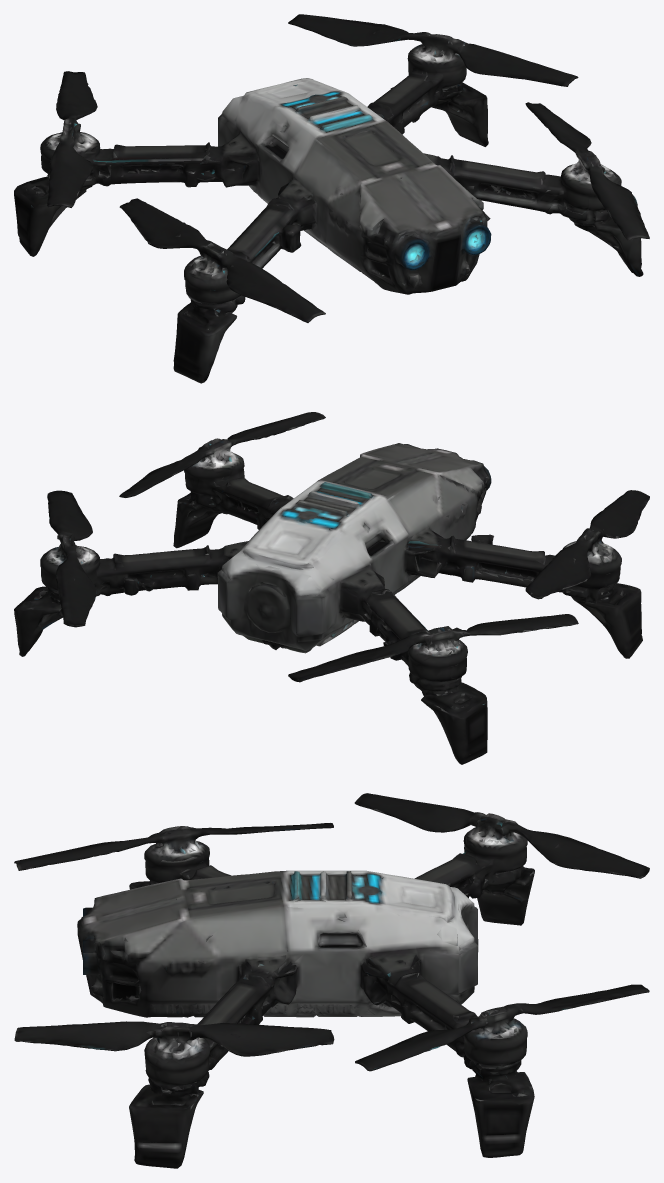
File: human_drone.glb
3 views of the same model, one above another, from view 1: azimuth 30°, elevation 25°; view 2: azimuth 150°, elevation 25°; view 3: azimuth 270°, elevation 25° (orthographic). The views are drawn at different scales.
Parts seen in each view (by area): view 1: Mesh1.0; view 2: Mesh1.0; view 3: Mesh1.0.
Boxes of the visible parts, <box> form: Mesh1.0: <box>14,14,649,383</box>; Mesh1.0: <box>14,412,649,764</box>; Mesh1.0: <box>14,793,649,1168</box>.
Size of the model in its own units: 1.91 by 0.5379 by 1.85.
1 material, 1 textured.
